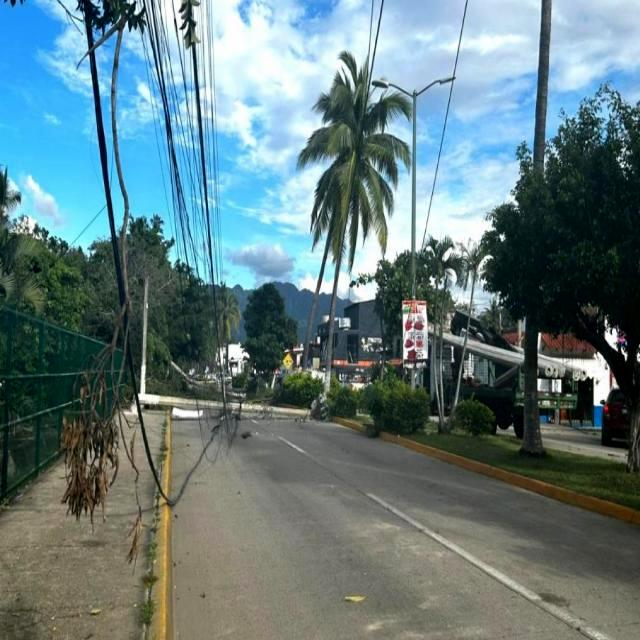Broken Pole: (133, 276, 332, 421)
